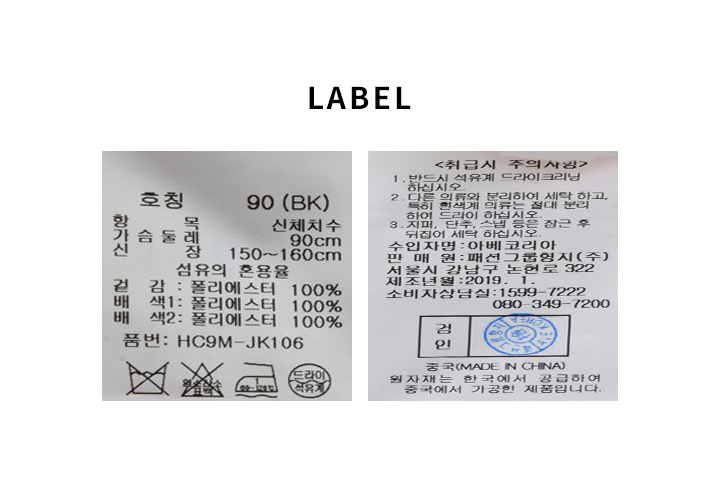KR_dry_clean_petroleum: (284, 359, 335, 399)
KR_iron_low_temp_with_cloth: (232, 358, 282, 401)
KR_no_bleach: (175, 358, 227, 401)
KR_no_wash: (124, 356, 170, 399)
